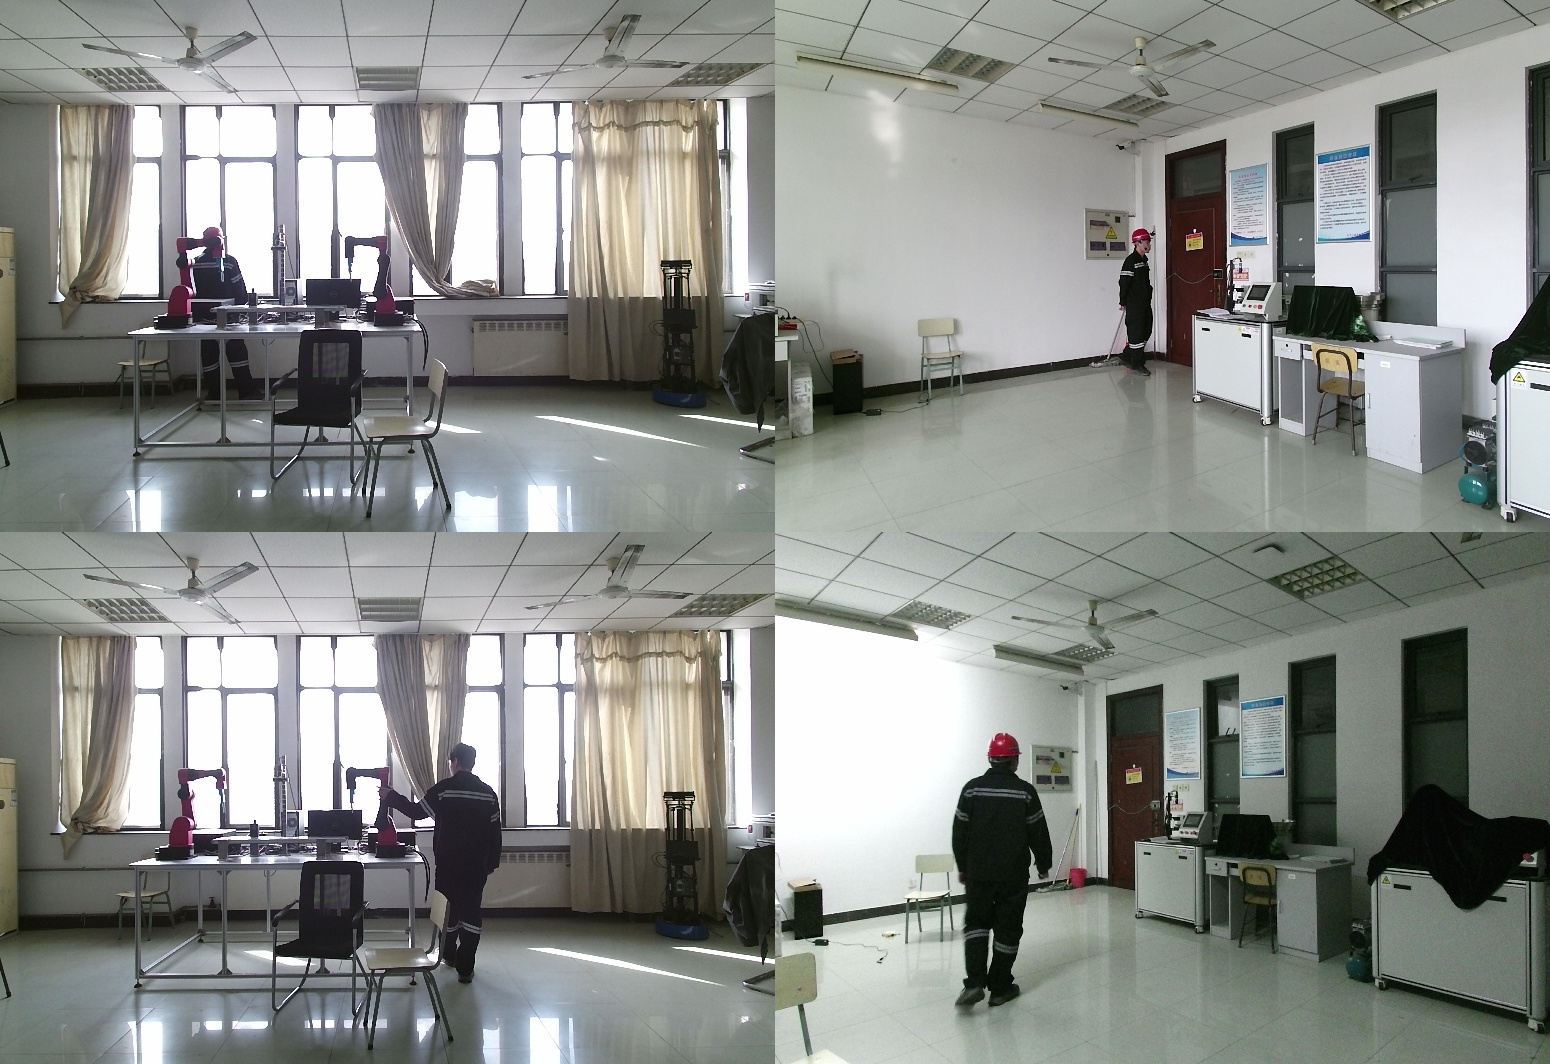person: (943, 733, 1056, 1027), (390, 747, 508, 982), (185, 228, 262, 407), (1114, 229, 1155, 379)
